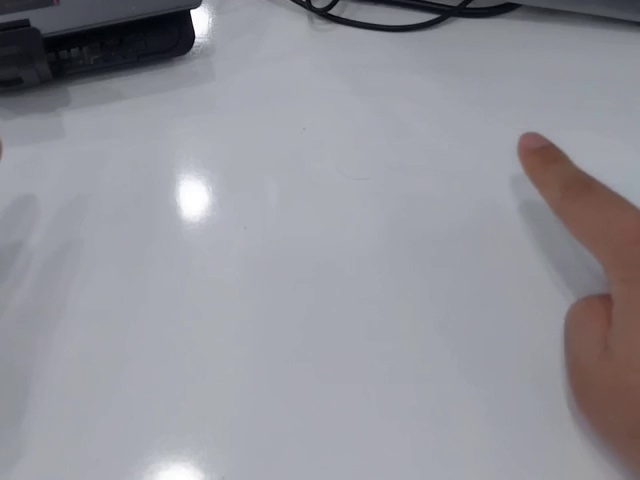fingers: (517, 129, 568, 181)
